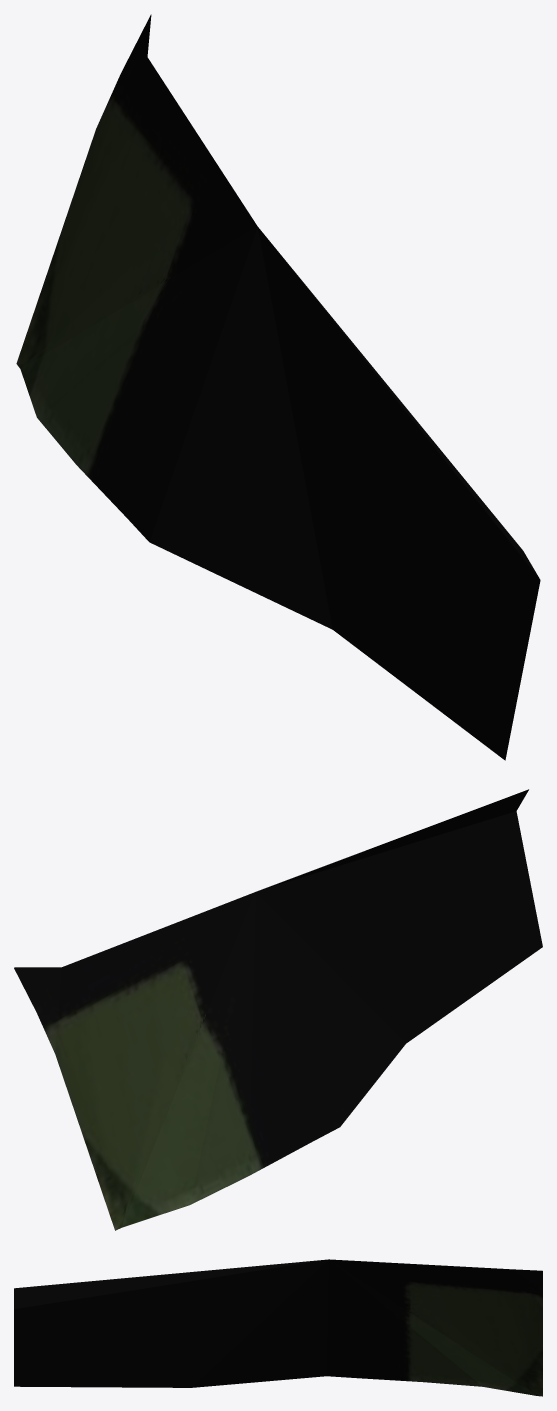
3 views of the same model, one above another, from view 1: azimuth 30°, elevation 25°; view 2: azimuth 150°, elevation 25°; view 3: azimuth 270°, elevation 25° (orthographic). The views are drawn at different scales.
Size of the model in its own units: 2.8 by 3.9 by 11.8.
Materials: 1 (1 with a texture image).
